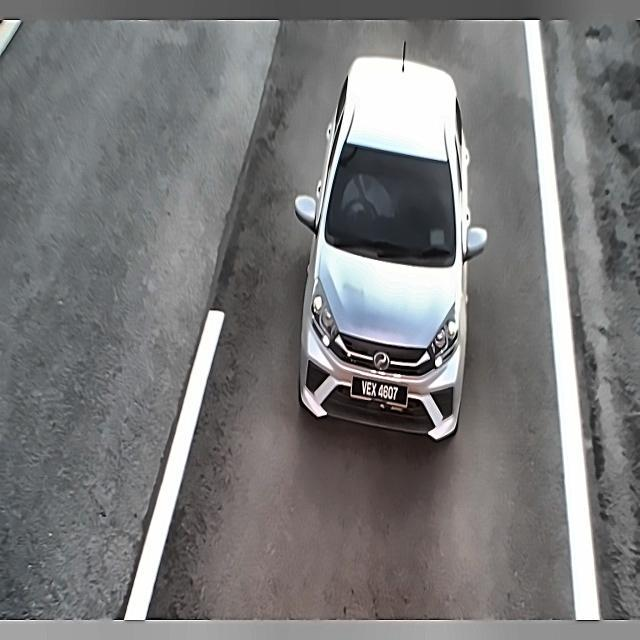car: (344, 372, 412, 413)
